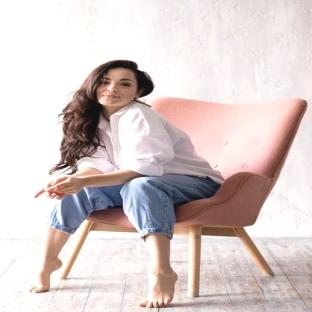Human: (29, 60, 224, 308)
